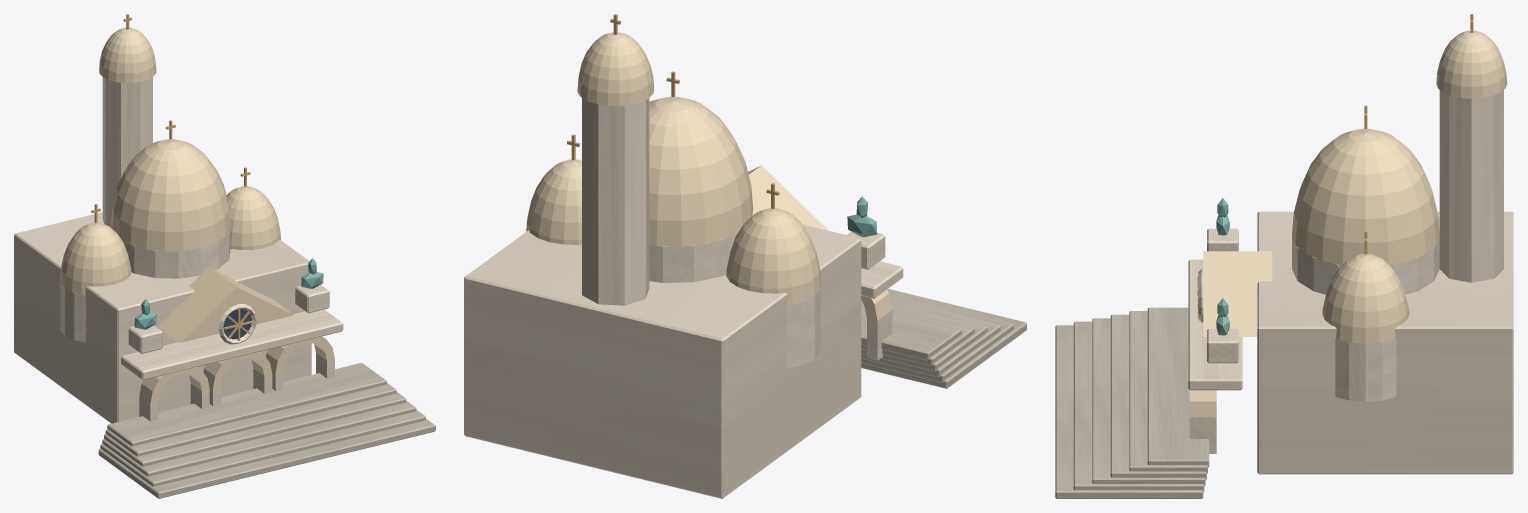
The model's file is sacre-coeur.glb.
3 renders of one model, left to right at view 1: azimuth 30°, elevation 25°; view 2: azimuth 150°, elevation 25°; view 3: azimuth 270°, elevation 25°, orthographic. The views are drawn at different scales.
Parts seen in each view (by area): view 1: sacre-coeur; view 2: sacre-coeur; view 3: sacre-coeur.
Boxes of the visible parts, left/top/right/bottom form: sacre-coeur: left=14, top=14, right=435, bottom=498; sacre-coeur: left=464, top=14, right=1026, bottom=498; sacre-coeur: left=1055, top=14, right=1513, bottom=498.
Size of the model in its own units: 8 by 9 by 9.3.
1 material, 1 textured.
